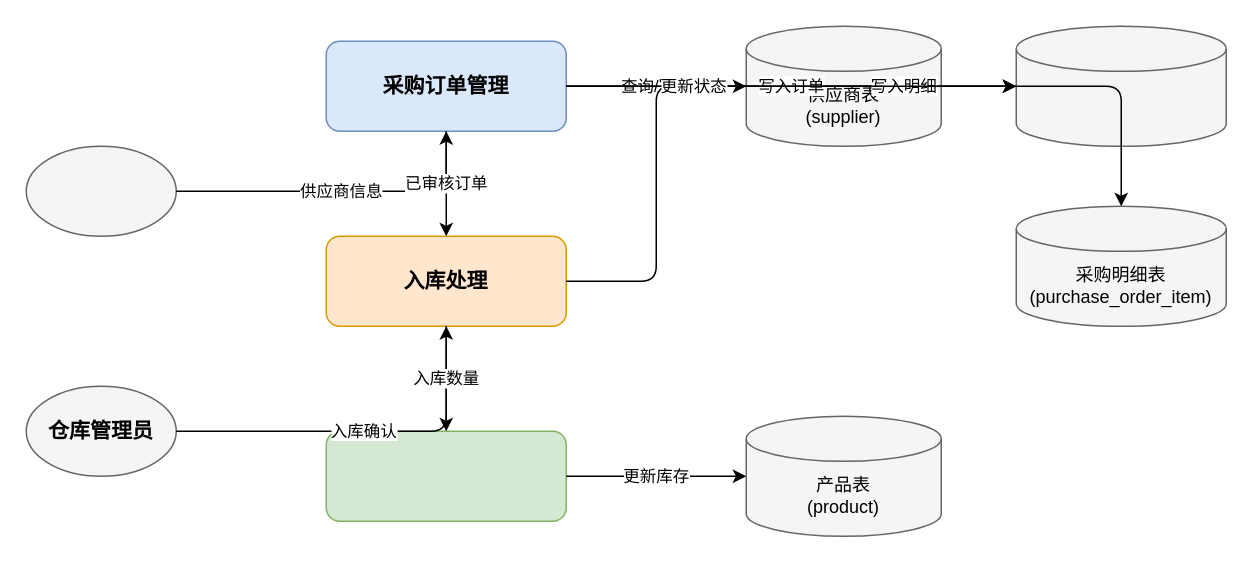
Image size: 1253x563. Some labels were removed from this diagram. The centre of each missing label's shape, as x and y in pixels:
供应商: the point at 100,190
库存更新: the point at 445,475
采购订单表 (purchase_order): the point at 1120,85
